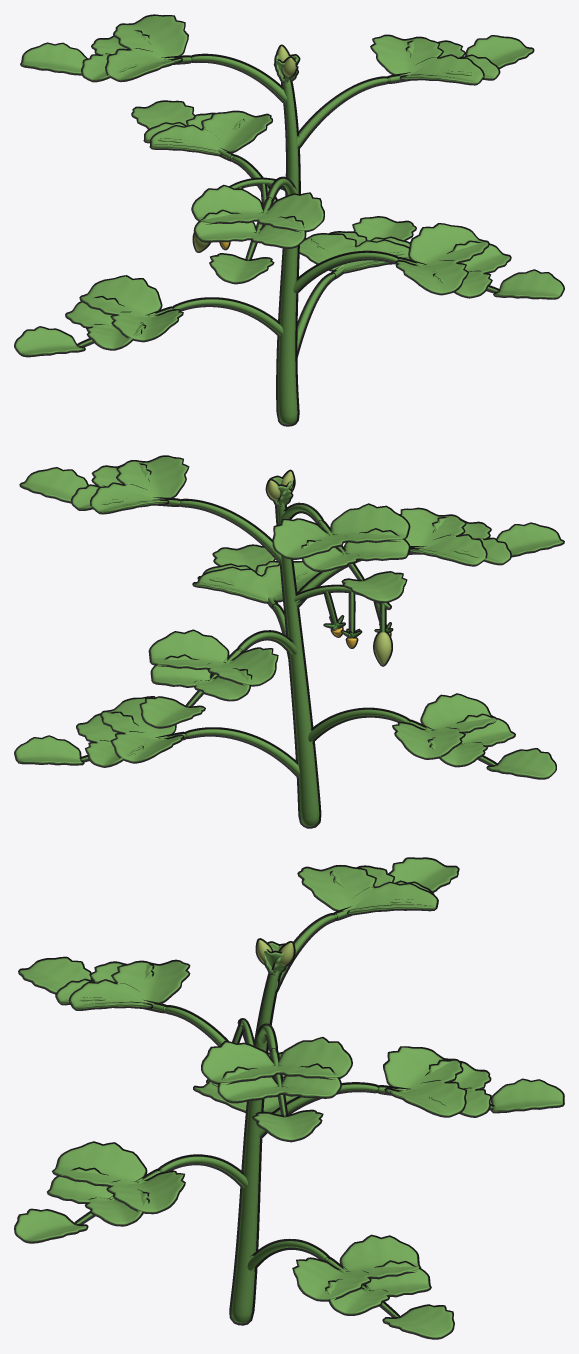
File: tomatoyoung.fbx
The picture shows the model from 3 angles, top to bottom: view 1: azimuth 30°, elevation 25°; view 2: azimuth 150°, elevation 25°; view 3: azimuth 270°, elevation 25°; orthographic projection. The views are drawn at different scales.
Visible parts, largest first — view 1: TomYoung_Leaflets, TomYoung_Stems, TomYoung_Buds; view 2: TomYoung_Leaflets, TomYoung_Stems, TomYoung_Truss, TomYoung_Buds; view 3: TomYoung_Leaflets, TomYoung_Stems.
Part boxes in pixels (x1,y1,x2,y2): TomYoung_Leaflets: (14,14,564,357); TomYoung_Stems: (76,53,500,426); TomYoung_Buds: (192,44,297,252); TomYoung_Leaflets: (14,455,564,779); TomYoung_Stems: (79,497,498,828); TomYoung_Truss: (274,499,391,638); TomYoung_Buds: (265,469,392,666); TomYoung_Leaflets: (14,857,564,1339); TomYoung_Stems: (73,906,494,1325).
Size of the model in its own units: 259 by 173 by 219.
